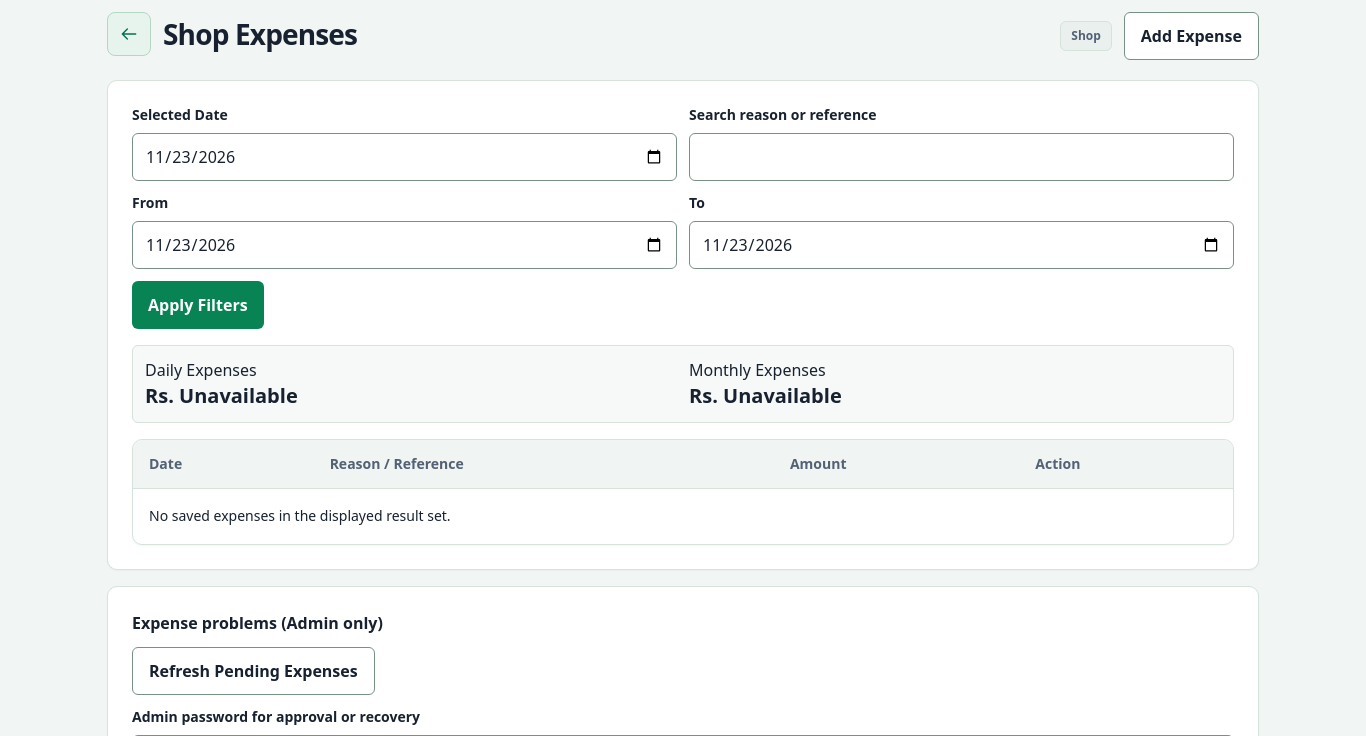
lets Admin open the existing protected Add Expense flow with its fresh password field
This screenshot has width=1366, height=736.
Click the button "Add Expense". click: (1191, 36)
box: [1124, 12, 1259, 60]
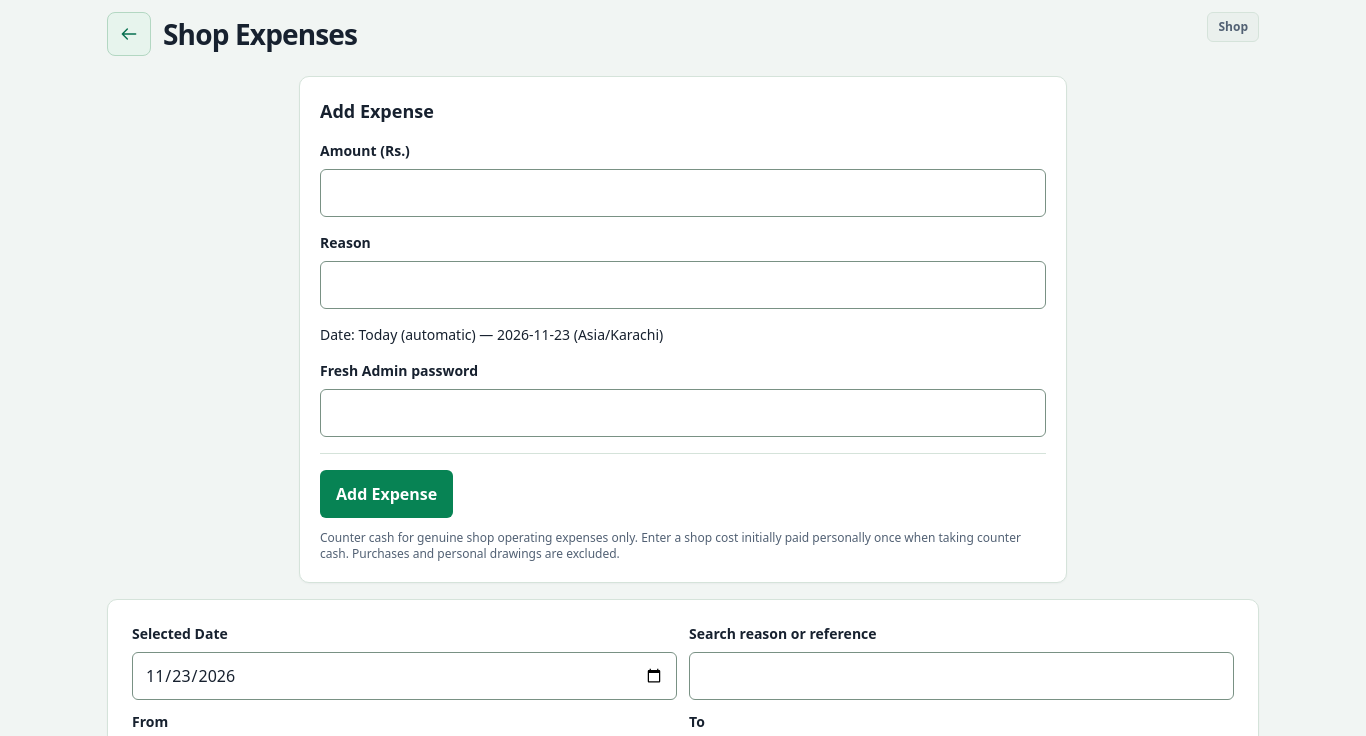
Expected: the field labelled "Amount (Rs.)" is enabled
Type "50" into the field labelled "Amount (Rs.)". click: (683, 193)
box: [320, 169, 1046, 217]
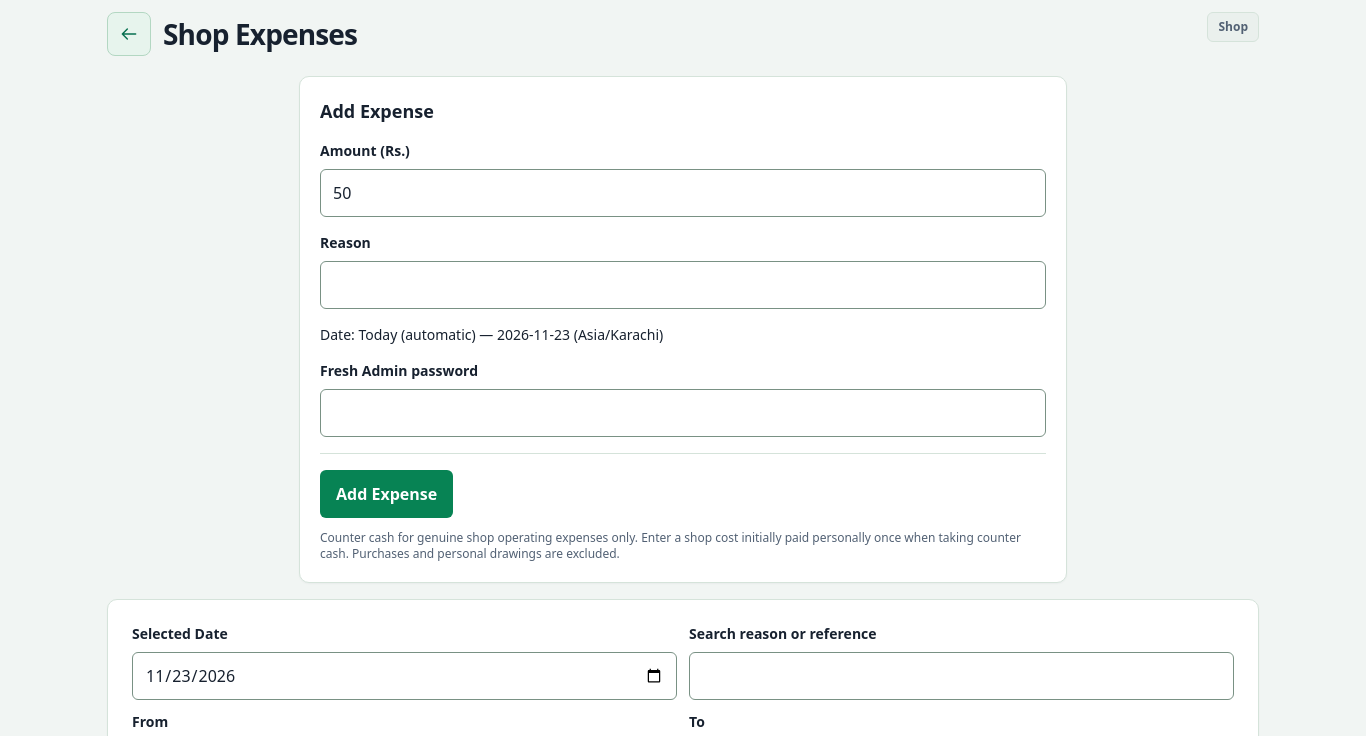
Type "Disposable TEST shop cost" into the field labelled "Reason". click: (683, 285)
box: [320, 261, 1046, 309]
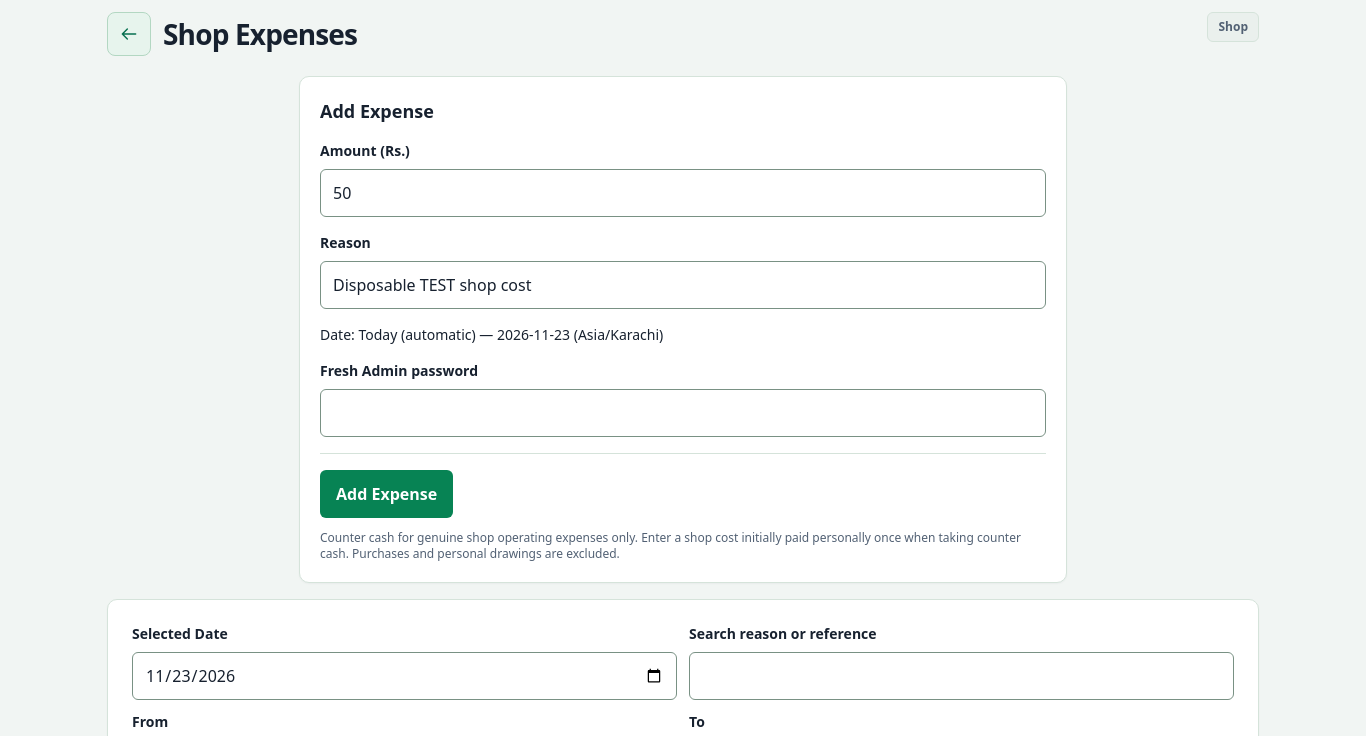
Click the button "Add Expense". click: (387, 494)
box: [320, 470, 453, 518]
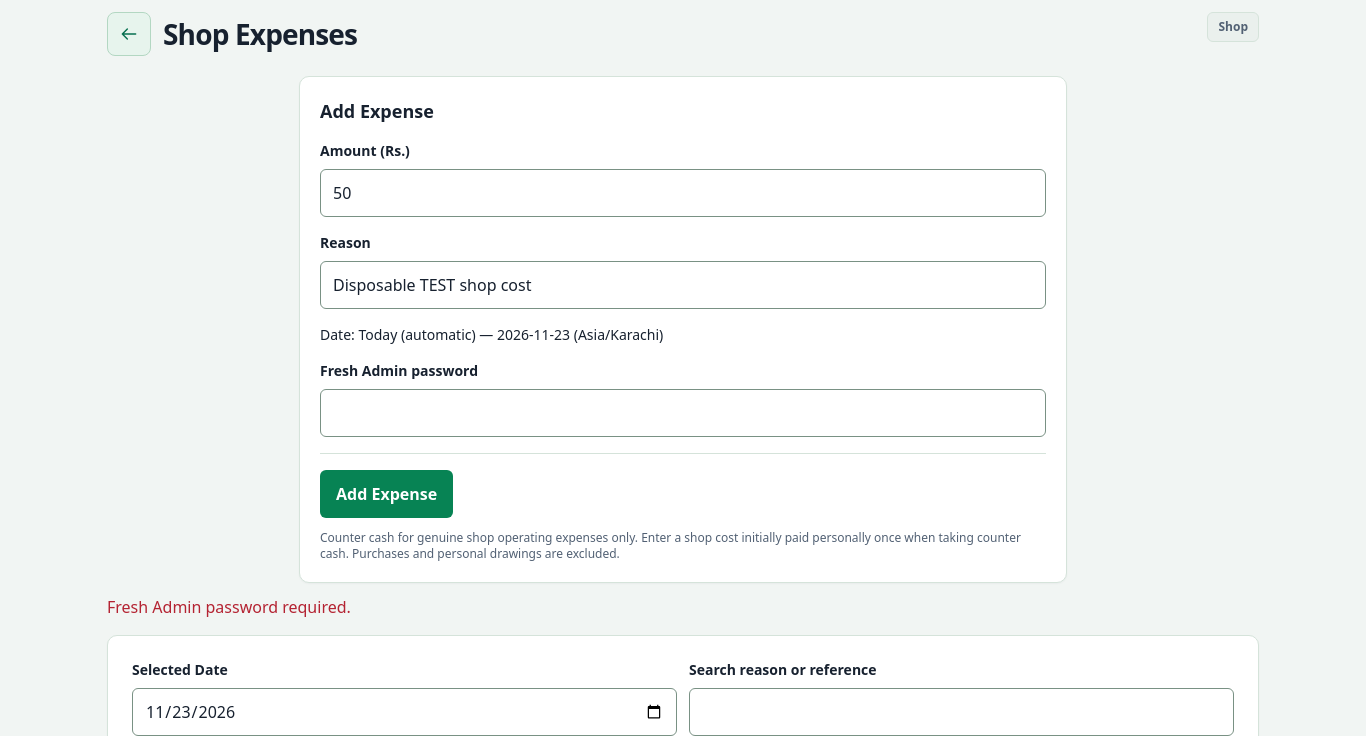
Expected: the text "Fresh Admin password required." is shown, [107, 596, 351, 618]
